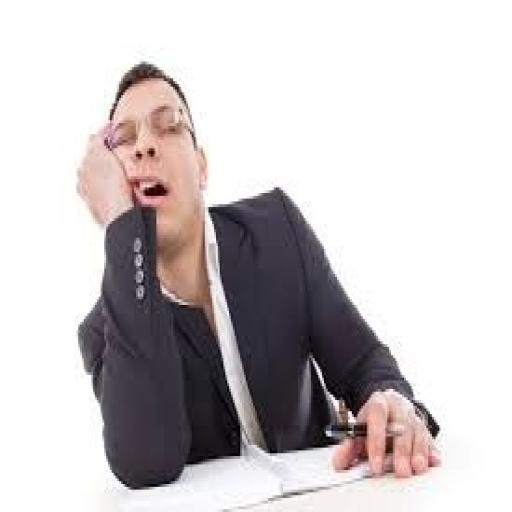sleeping: (73, 59, 443, 492)
